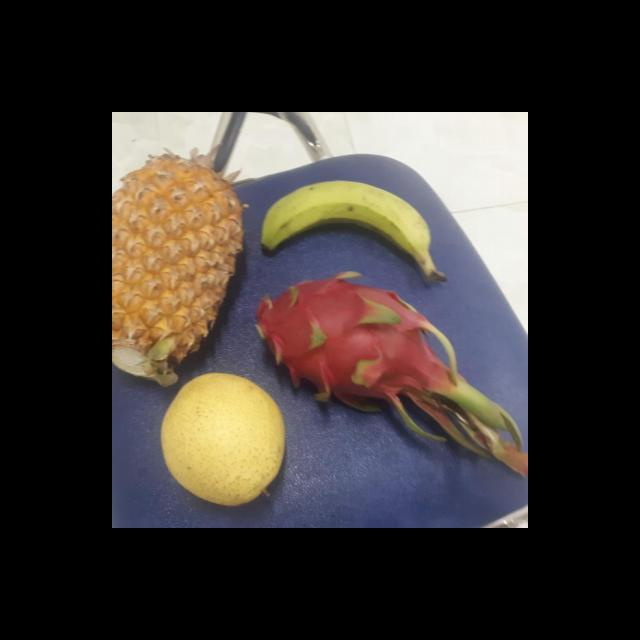banana: (256, 180, 434, 282)
pear: (154, 372, 286, 504)
pineapple: (112, 156, 234, 380)
pitaya: (237, 274, 444, 409)
